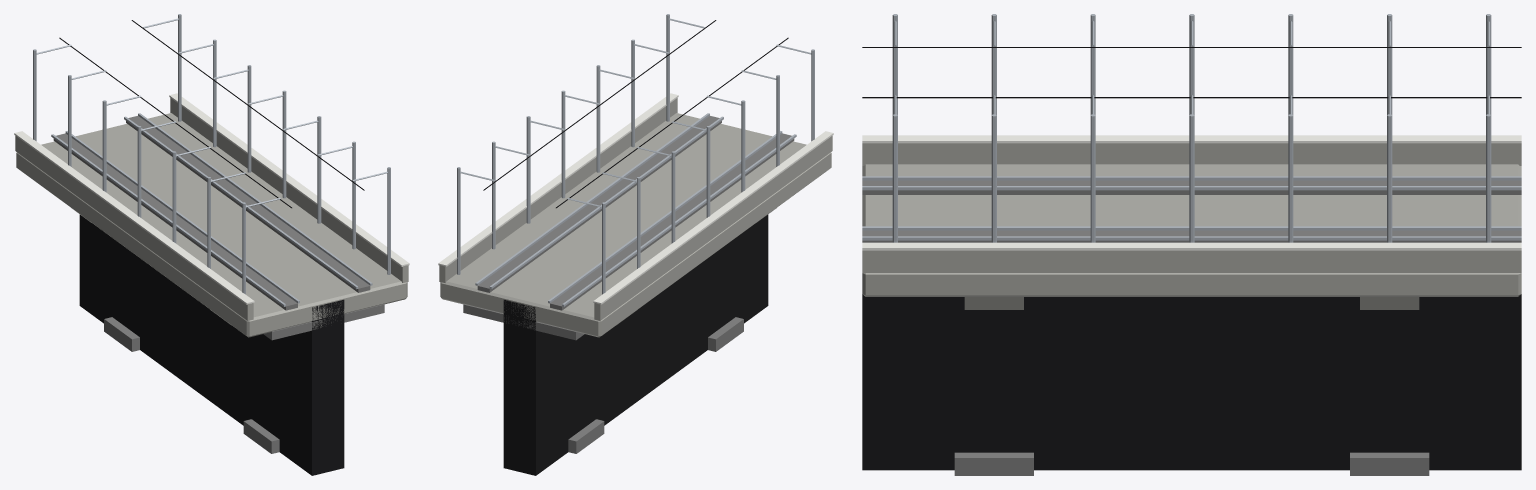
The model's file is env_bf_rail_viaduct.fbx.
3 renders of one model, left to right at view 1: azimuth 30°, elevation 25°; view 2: azimuth 150°, elevation 25°; view 3: azimuth 270°, elevation 25°, orthographic. The views are drawn at different scales.
Visible parts, largest first — view 1: env_bf_rail_viaduct_geo_LOD0, COL_env_bf_rail_viaduct; view 2: env_bf_rail_viaduct_geo_LOD0, COL_env_bf_rail_viaduct; view 3: env_bf_rail_viaduct_geo_LOD0, COL_env_bf_rail_viaduct.
Boxes of the visible parts, x1,y1,x2,y2 form: env_bf_rail_viaduct_geo_LOD0: (14,14,409,453); COL_env_bf_rail_viaduct: (79,214,344,475); env_bf_rail_viaduct_geo_LOD0: (438,14,833,453); COL_env_bf_rail_viaduct: (503,214,768,475); env_bf_rail_viaduct_geo_LOD0: (862,14,1521,475); COL_env_bf_rail_viaduct: (862,294,1521,470).
Size of what is drawn, in the model's own units: 8.1 by 13.2 by 20.
